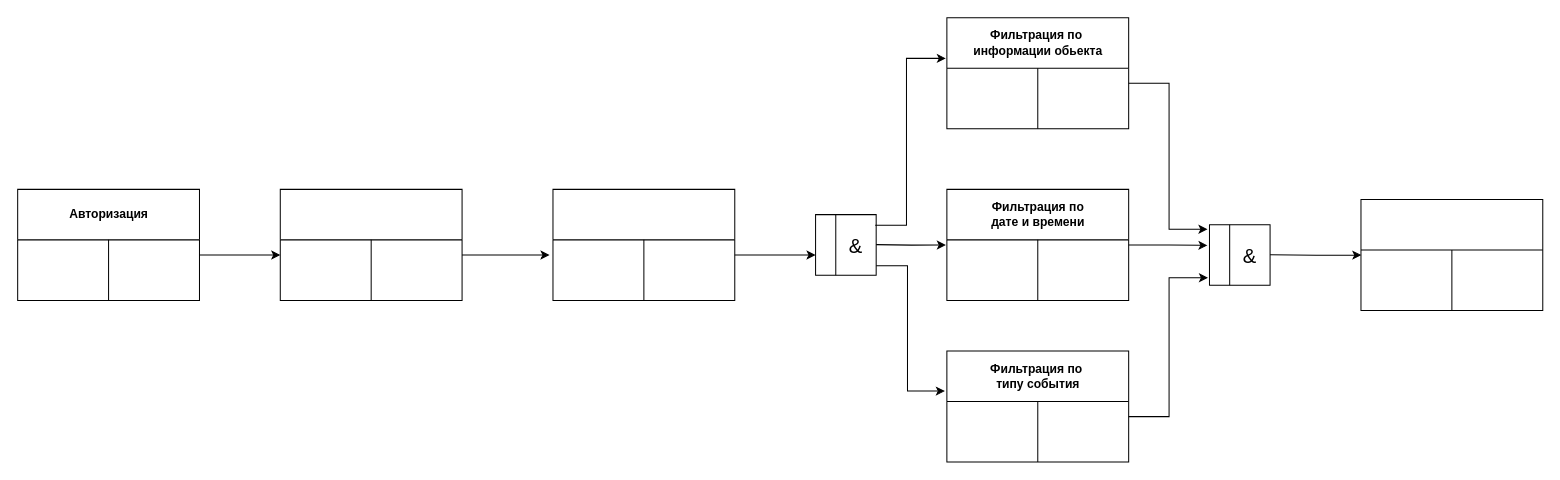
Image size: 1560x480. Some labels were removed from this diagram. The box of each missing label's shape, as (x1, y1, x2, y2) in pixels:
Мониторинг обектов: (279, 188, 462, 300)
Просмотр доступных архивов: (552, 188, 735, 300)
Управление архивом видеозаписей: (1360, 198, 1543, 311)
